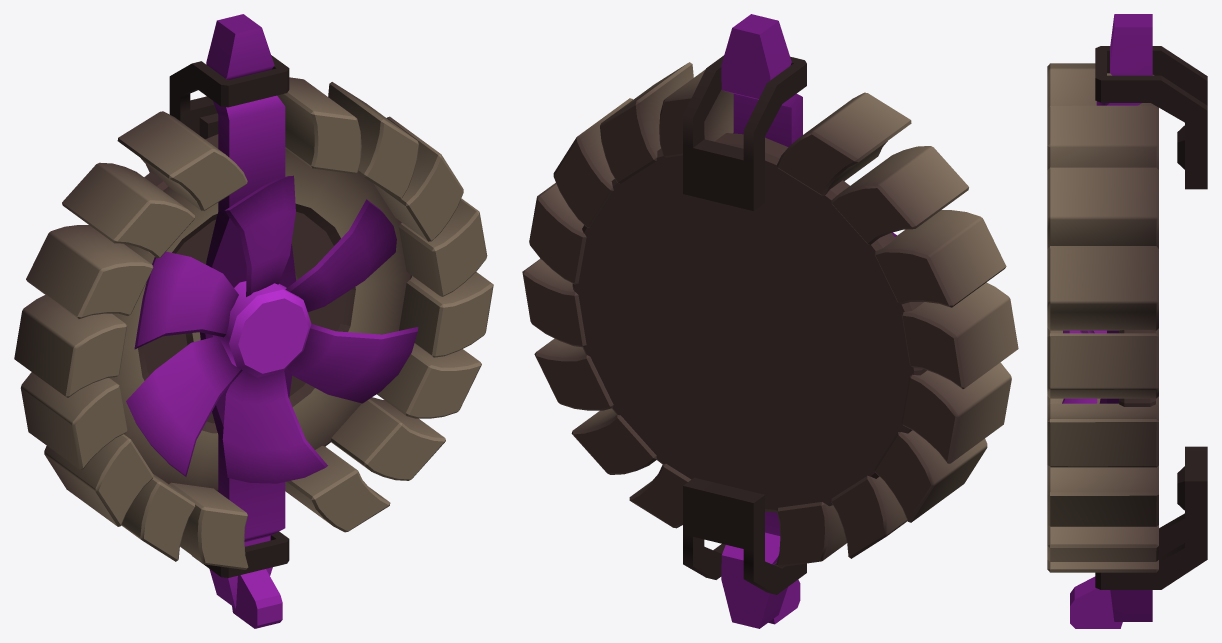
The model's file is Cooling_systems_lvl_01_V02.fbx.
3 views of the same model, side by side, from view 1: azimuth 30°, elevation 25°; view 2: azimuth 150°, elevation 25°; view 3: azimuth 270°, elevation 25° (orthographic). The views are drawn at different scales.
Parts seen in each view (by area): view 1: Body_Cooling, Fan_Cooling; view 2: Body_Cooling; view 3: Body_Cooling, Fan_Cooling.
Boxes of the visible parts, x1,y1,x2,y2 form: Body_Cooling: (14,14,493,628); Fan_Cooling: (126,175,418,483); Body_Cooling: (522,14,1018,628); Body_Cooling: (1047,14,1207,628); Fan_Cooling: (1062,330,1106,403).
Size of the model in its own units: 37.75 by 48.98 by 11.8.
